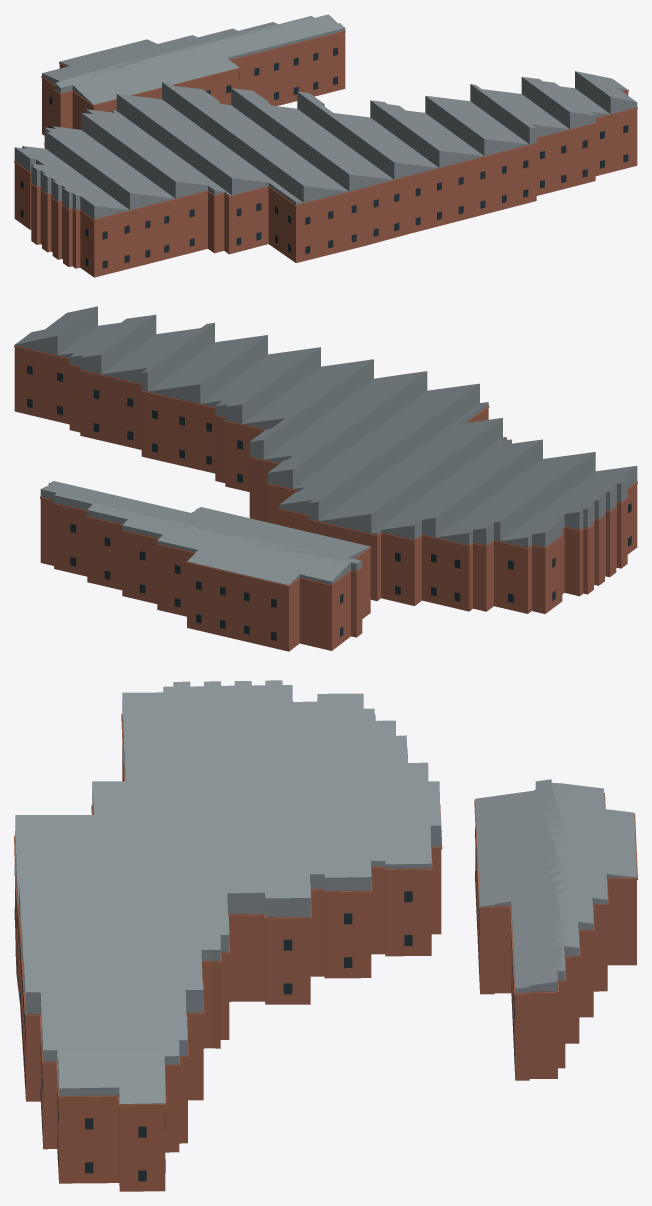
The model's file is museum-ludwig.glb.
3 views of the same model, one above another, from view 1: azimuth 30°, elevation 25°; view 2: azimuth 150°, elevation 25°; view 3: azimuth 270°, elevation 25° (orthographic). The views are drawn at different scales.
Parts seen in each view (by area): view 1: shed-roof, primary-envelope, workshop-roof, window-rhythm, cornice; view 2: shed-roof, primary-envelope, workshop-roof, cornice, window-rhythm; view 3: shed-roof, primary-envelope, workshop-roof, cornice, window-rhythm.
Boxes of the visible parts, x1,y1,x2,y2 form: shed-roof: [14, 71, 637, 219]; primary-envelope: [14, 30, 637, 277]; workshop-roof: [42, 14, 345, 104]; window-rhythm: [20, 47, 628, 268]; cornice: [14, 31, 637, 221]; shed-roof: [15, 306, 637, 547]; primary-envelope: [14, 345, 637, 651]; workshop-roof: [40, 481, 370, 585]; cornice: [14, 345, 637, 587]; window-rhythm: [27, 365, 631, 640]; shed-roof: [15, 680, 441, 1103]; primary-envelope: [15, 726, 636, 1191]; workshop-roof: [475, 779, 636, 992]; cornice: [14, 714, 637, 1106]; window-rhythm: [14, 747, 514, 1181].
Bounding box in the file's own units: 16 × 2.12 × 10.58.
